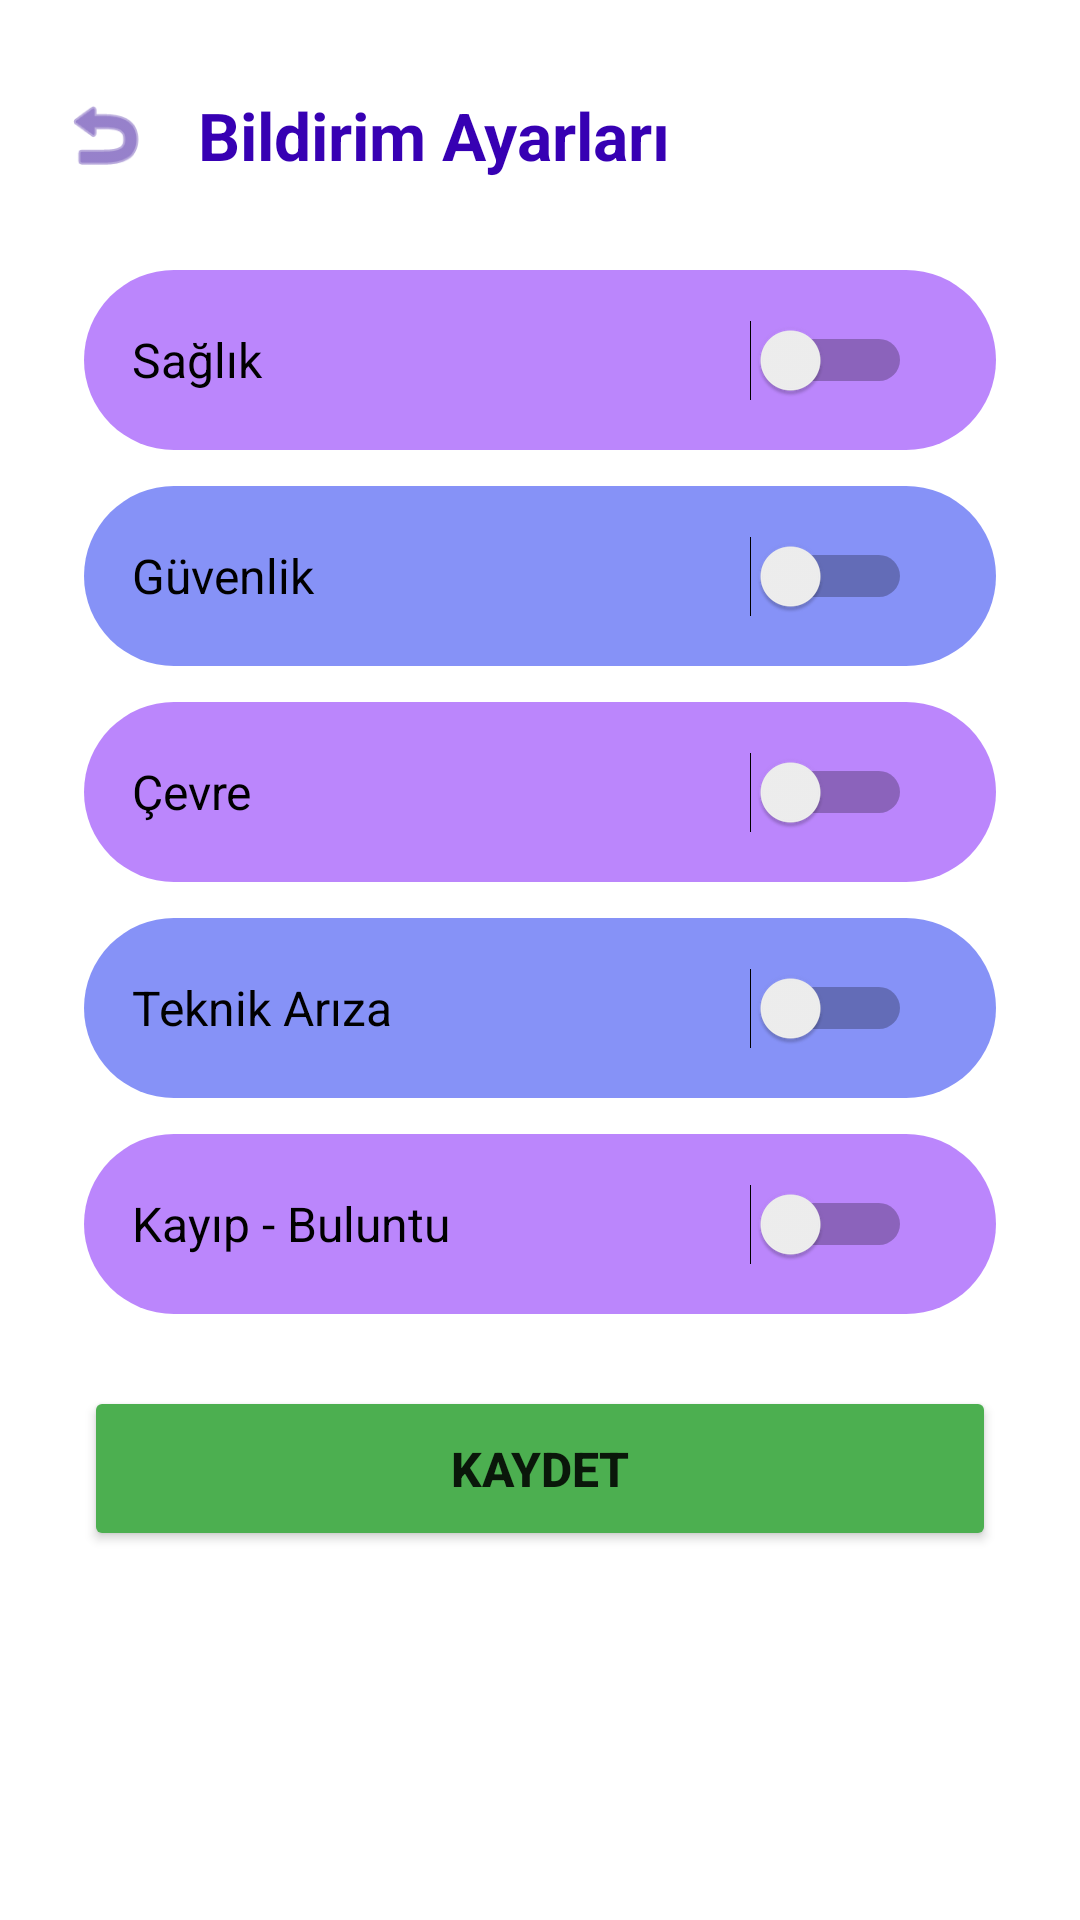

Named icons in this screenshot (1080*1920) and their bounding boxes, box=[x1, y1, x2, y2]:
Geri Dön: box=[74, 106, 139, 165]
